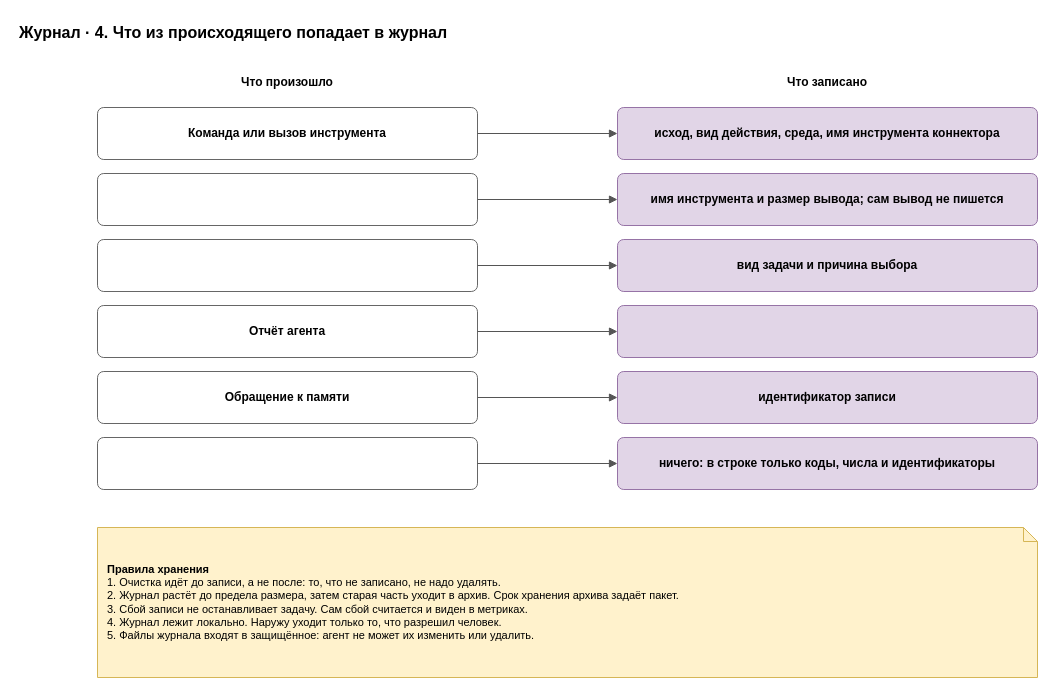
Some shapes in this 1055 by 695 pixel diagram are drawn without their labels. Each missing label, with the box of its shape:
Вывод инструмента коннектора: (96, 172, 478, 226)
Запрос человека: (96, 238, 478, 292)
метка итога; у отчёта сценария размер и отпечаток: (616, 304, 1038, 358)
Текст, в котором может быть секрет: (96, 436, 478, 490)
